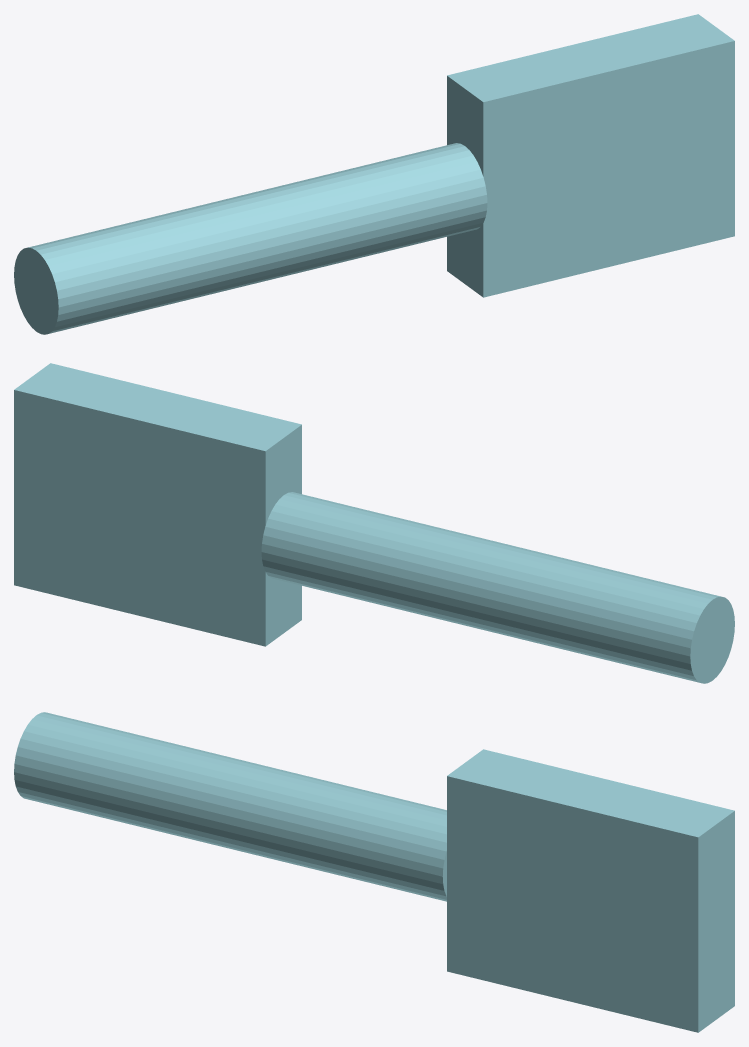
The model's file is cylinder_spatula_v6004.obj.
3 views of the same model, one above another, from view 1: azimuth 30°, elevation 25°; view 2: azimuth 150°, elevation 25°; view 3: azimuth 330°, elevation 25° (orthographic).
Size of the model in its own units: 0.243 by 0.0667 by 0.0276.
Materials: 1 (1 with a texture image).
